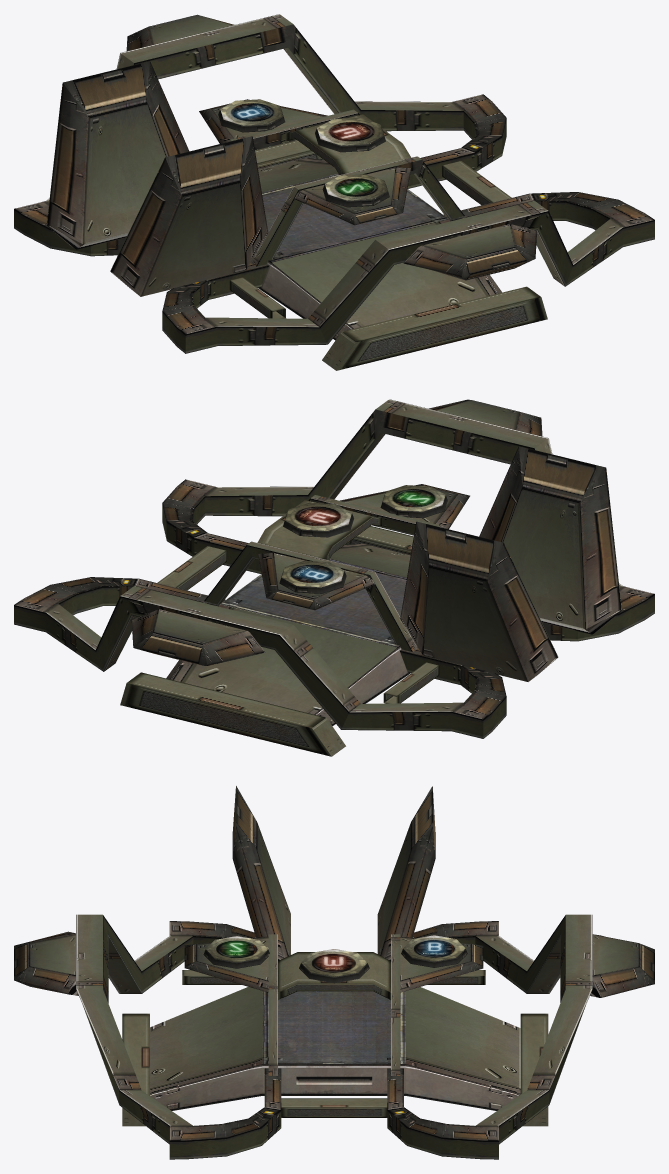
Rendered from constructor_unit.obj.
3 renders of one model, top to bottom at view 1: azimuth 30°, elevation 25°; view 2: azimuth 150°, elevation 25°; view 3: azimuth 270°, elevation 25°, orthographic. The views are drawn at different scales.
Parts seen in each view (by area): view 1: group4 pCube2, group4 pCube27, group4 pCube26, group4 pCube3, group4 pCube1, group4 pCube29, group4 pCube30, group4 pCube24, group4 pCube85, group4 pCube60, group4 pCylinder42, group4 pCylinder43 (+7 smaller); view 2: group4 pCube1, group4 pCube26, group4 pCube27, group4 pCube3, group4 pCube2, pCube28 group4, group4 pCube31, group4 pCube25, group4 pCube84, group4 pCube60, group4 pCylinder42, group4 pCube30 (+7 smaller); view 3: group4 pCube3, group4 pCube2, group4 pCube1, group4 pCube27, group4 pCube26, group4 pCube31, group4 pCube30, group4 pCube60, group4 pCube4, group4 pCube29, group4 pCube85, pCube28 group4 (+6 smaller).
Part boxes in pixels (x1=…): group4 pCube2: x1=162, y1=192, x2=654, y2=353; group4 pCube27: x1=46, y1=61, x2=189, y2=249; group4 pCube26: x1=110, y1=136, x2=268, y2=296; group4 pCube3: x1=251, y1=158, x2=501, y2=340; group4 pCube1: x1=14, y1=14, x2=506, y2=256; group4 pCube29: x1=322, y1=286, x2=547, y2=370; group4 pCube30: x1=403, y1=224, x2=537, y2=280; group4 pCube24: x1=251, y1=156, x2=464, y2=266; group4 pCube85: x1=294, y1=167, x2=411, y2=225; group4 pCube60: x1=286, y1=114, x2=410, y2=174; group4 pCylinder42: x1=315, y1=117, x2=385, y2=152; group4 pCylinder43: x1=322, y1=174, x2=389, y2=207; group4 pCube1: x1=14, y1=577, x2=506, y2=738; group4 pCube26: x1=479, y1=446, x2=621, y2=634; group4 pCube27: x1=400, y1=521, x2=558, y2=681; group4 pCube3: x1=166, y1=543, x2=417, y2=725; group4 pCube2: x1=162, y1=399, x2=654, y2=641; pCube28 group4: x1=120, y1=672, x2=345, y2=756; group4 pCube31: x1=131, y1=609, x2=265, y2=665; group4 pCube25: x1=204, y1=541, x2=417, y2=651; group4 pCube84: x1=258, y1=553, x2=374, y2=610; group4 pCube60: x1=257, y1=500, x2=382, y2=560; group4 pCylinder42: x1=283, y1=502, x2=353, y2=537; group4 pCube30: x1=429, y1=399, x2=542, y2=436; group4 pCube3: x1=150, y1=987, x2=520, y2=1110; group4 pCube2: x1=76, y1=914, x2=281, y2=1159; group4 pCube1: x1=387, y1=914, x2=592, y2=1159; group4 pCube27: x1=377, y1=786, x2=435, y2=960; group4 pCube26: x1=232, y1=786, x2=290, y2=960; group4 pCube31: x1=590, y1=934, x2=654, y2=997; group4 pCube30: x1=14, y1=931, x2=78, y2=995; group4 pCube60: x1=278, y1=952, x2=390, y2=999; group4 pCube4: x1=281, y1=1098, x2=387, y2=1117; group4 pCube29: x1=122, y1=1013, x2=149, y2=1126; group4 pCube85: x1=184, y1=936, x2=268, y2=992; pCube28 group4: x1=520, y1=1013, x2=548, y2=1126.
Bounding box in the file's own units: 34.66 × 13.33 × 40.87.
5 materials, 5 textured.
